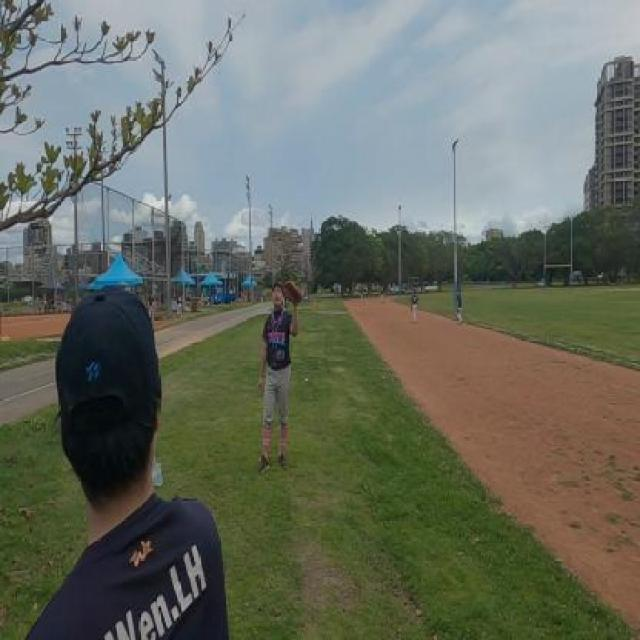baseball: (298, 241, 304, 254)
